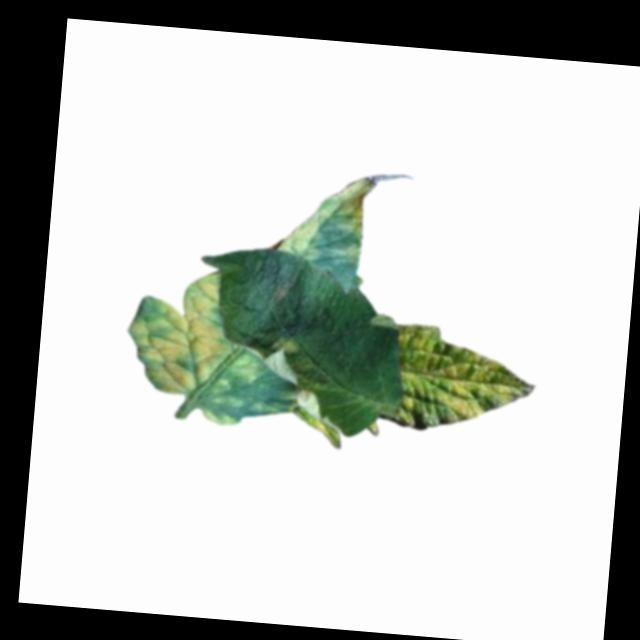Leaf_Mold: (391, 318, 542, 439), (121, 263, 235, 395), (273, 166, 369, 263), (233, 351, 267, 386), (267, 326, 302, 356)
